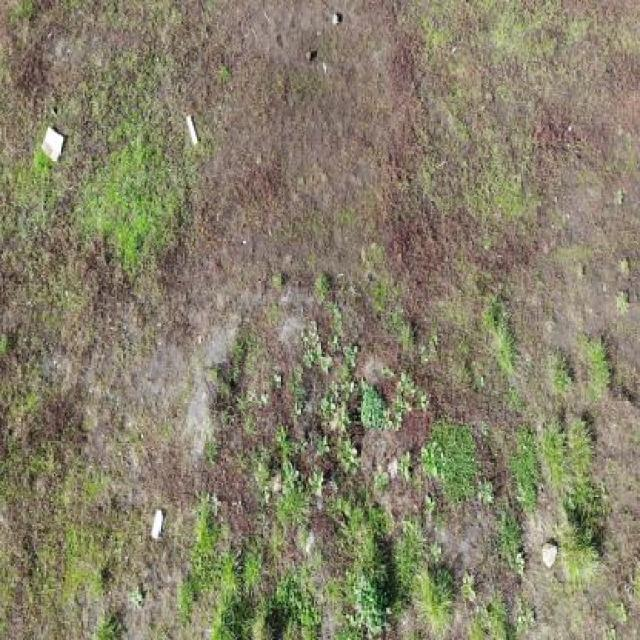Garbage: (41, 126, 66, 161), (149, 507, 165, 538), (186, 115, 199, 145)
